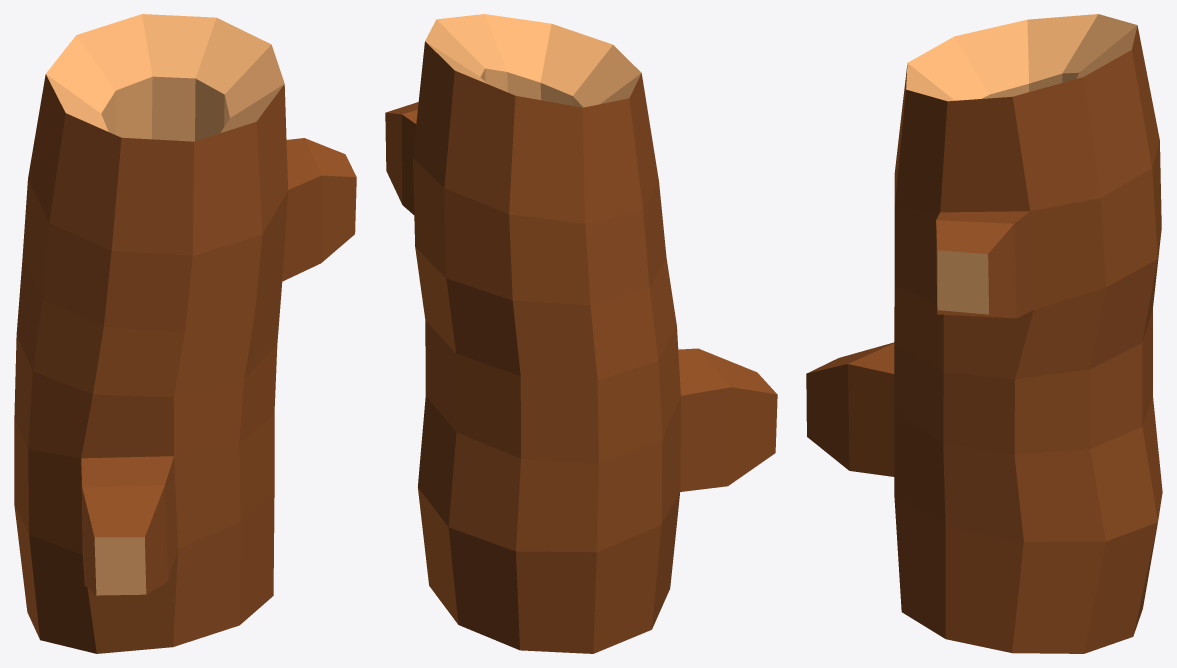
Rendered from batang kayu  (1).fbx.
3 renders of one model, left to right at view 1: azimuth 30°, elevation 25°; view 2: azimuth 150°, elevation 25°; view 3: azimuth 270°, elevation 25°, orthographic. The views are drawn at different scales.
Parts seen in each view (by area): view 1: BATANG KAYU; view 2: BATANG KAYU; view 3: BATANG KAYU.
Part boxes in pixels (bbox=[...]): BATANG KAYU: bbox=[14, 14, 356, 653]; BATANG KAYU: bbox=[385, 14, 777, 653]; BATANG KAYU: bbox=[806, 14, 1162, 653].
Bounding box in the file's own units: 87.68 × 146 × 78.8.
